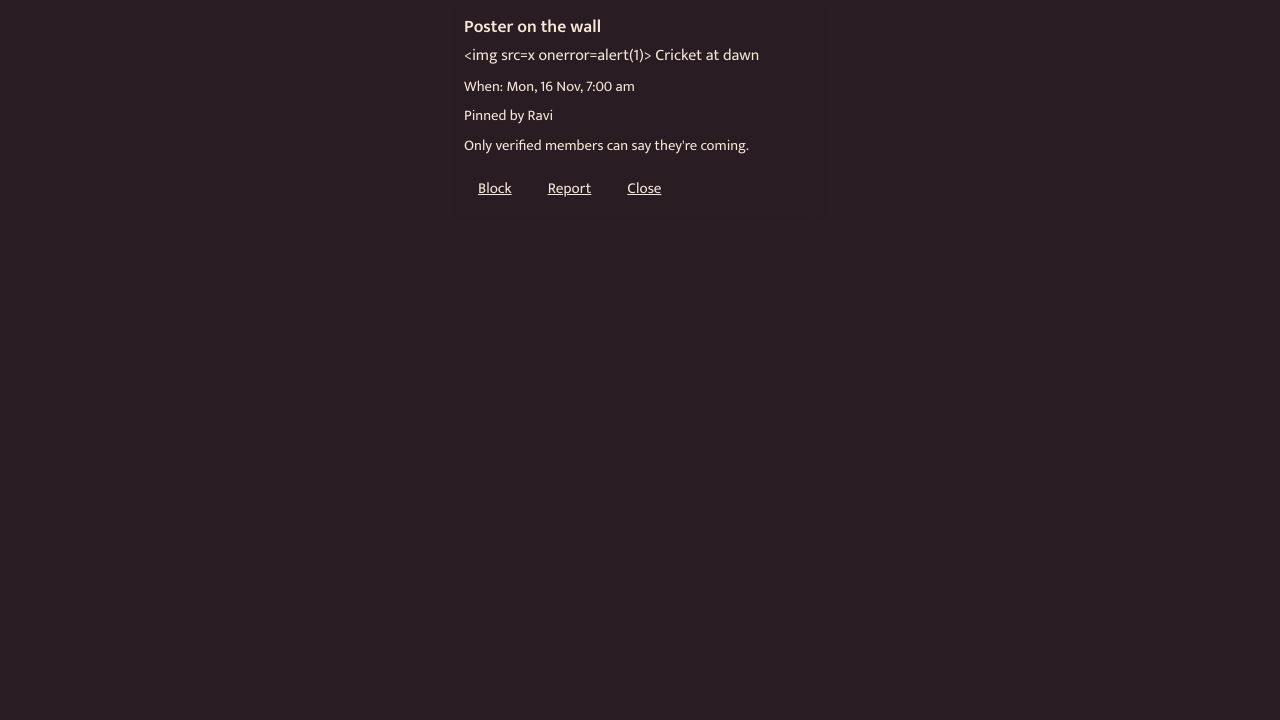
Test: PosterCard › a block from a poster that has since come down says it did not happen, and why
The width and height of the screenshot is (1280, 720).
Click the button "Block": [495, 188] box [464, 166, 526, 210]
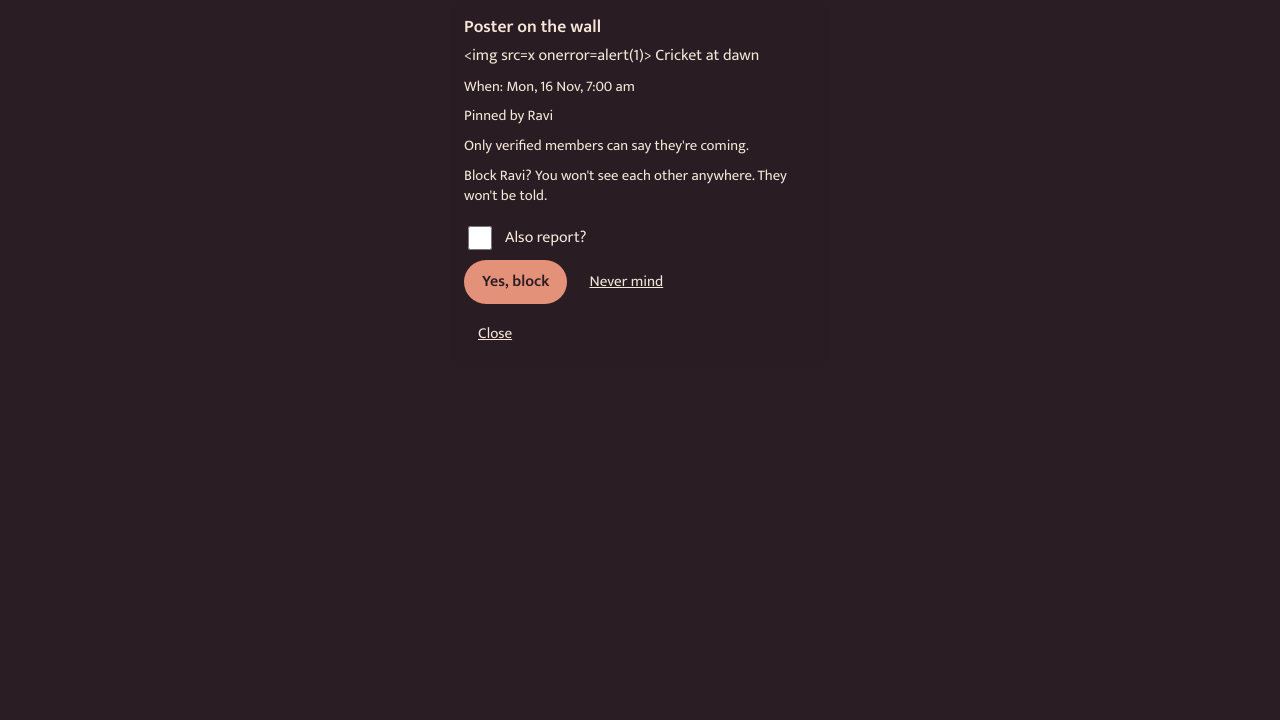
Click the button "Yes, block": [516, 282] box [464, 260, 567, 304]
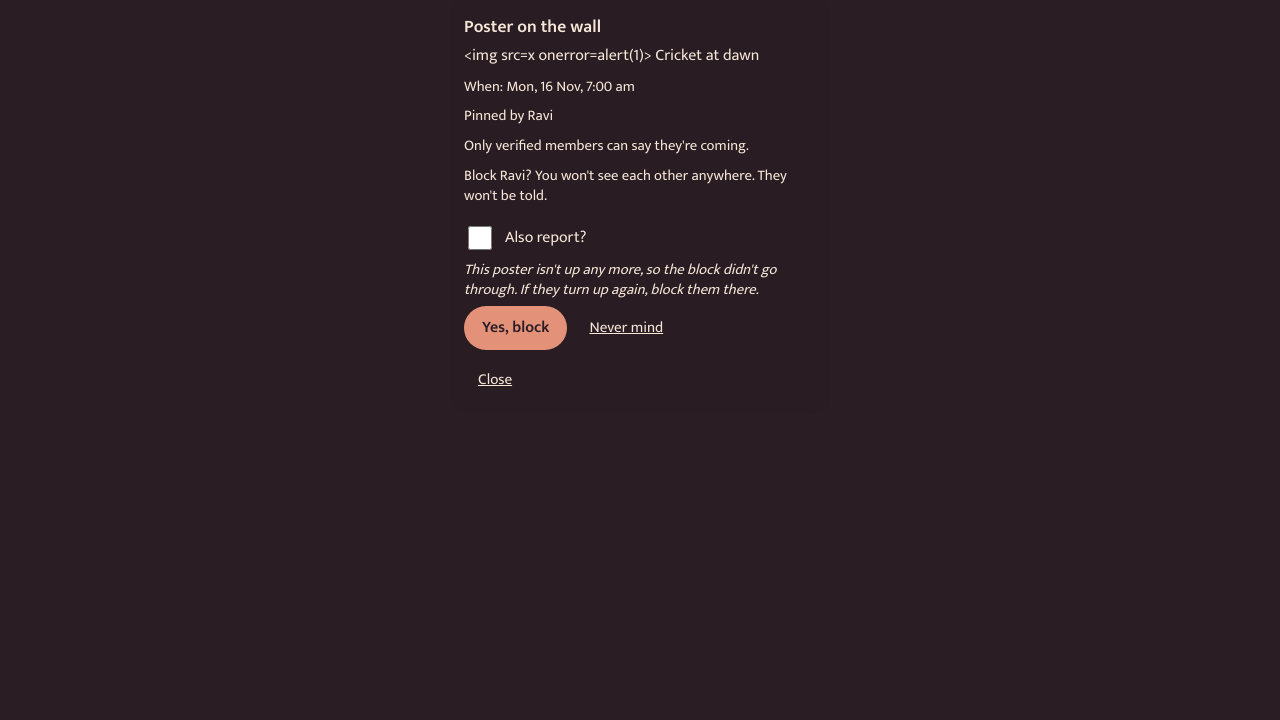
Now the text "This poster isn't up any more, so the block didn't go through." is shown, box [464, 257, 776, 302]
